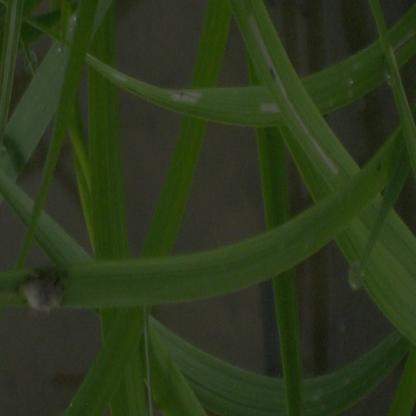rice-bug: (20, 265, 68, 314)
